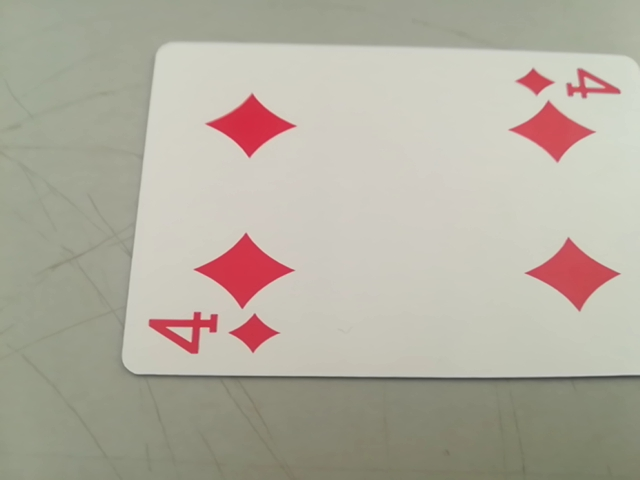fk 4: (142, 304, 283, 371), (515, 62, 624, 106)
